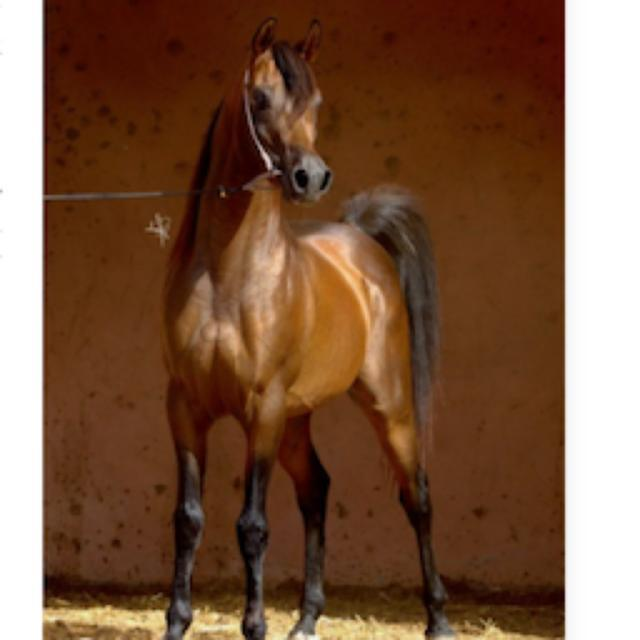Horse: (142, 12, 470, 638)
